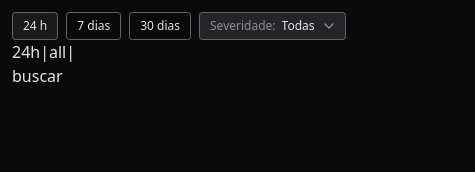
Test: FilterBar › escolher um período atualiza o filtro
Click the radio button with aria-label "Últimos 7 dias" at (94, 26), box [66,12,121,40]
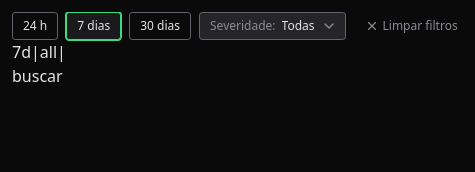
Result: the text with test id "filters" reads "7d|all|" at [12,41,66,63]
